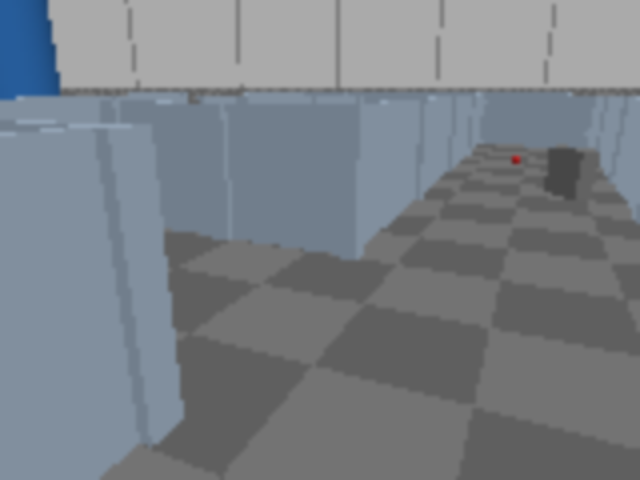obstacle: (543, 146, 600, 201)
